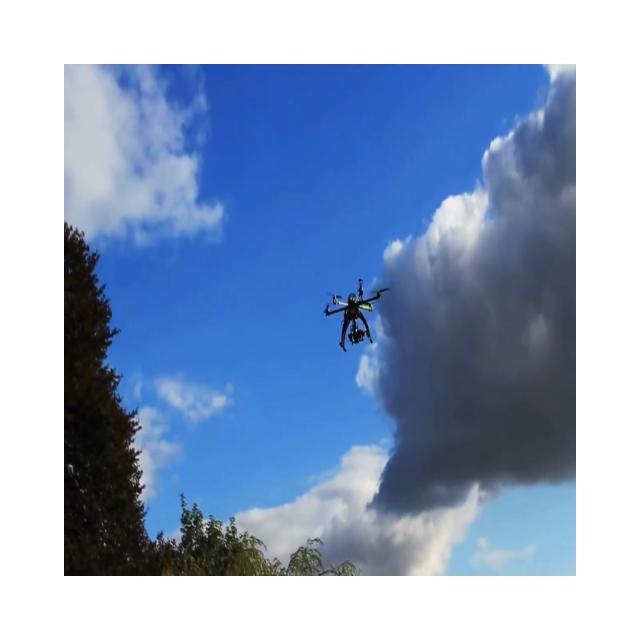drone: (323, 277, 390, 352)
